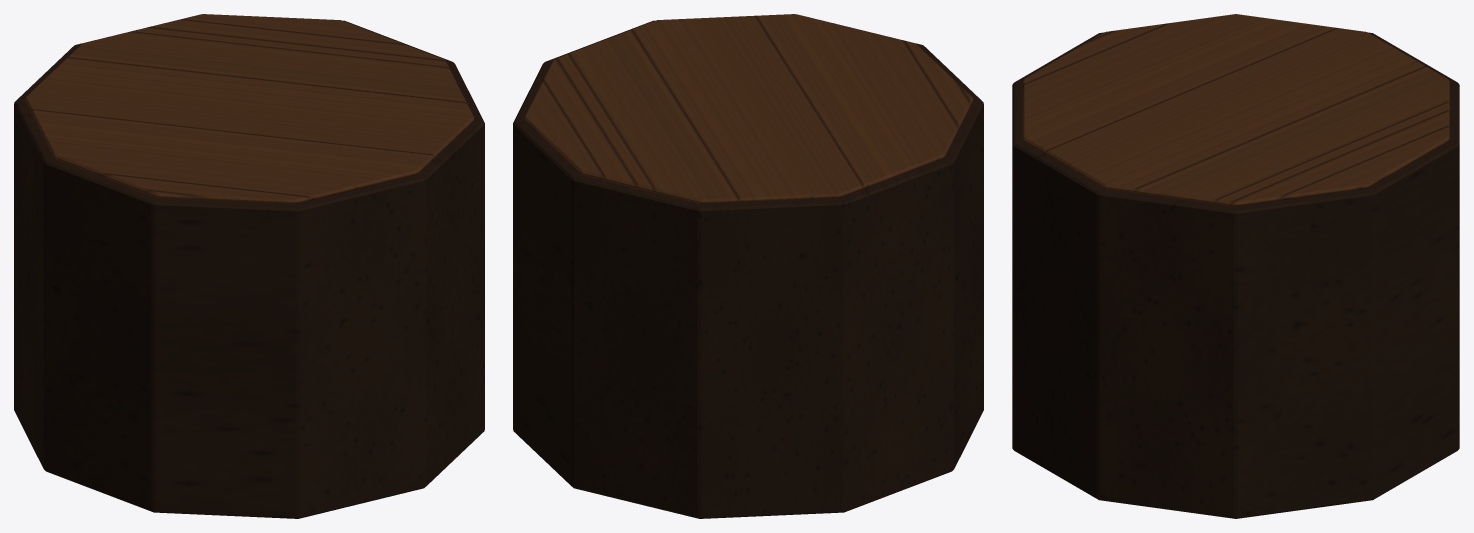
The model's file is PROP-C06900B3BF02_lod1.glb.
The picture shows the model from 3 angles, left to right: view 1: azimuth 30°, elevation 25°; view 2: azimuth 150°, elevation 25°; view 3: azimuth 270°, elevation 25°; orthographic projection.
Parts seen in each view (by area): view 1: stump.001, cut_growth_rings.001; view 2: stump.001, cut_growth_rings.001; view 3: stump.001, cut_growth_rings.001.
Part boxes in pixels (bbox=[...]): stump.001: bbox=[14, 16, 484, 518]; cut_growth_rings.001: bbox=[24, 14, 474, 204]; stump.001: bbox=[513, 16, 983, 518]; cut_growth_rings.001: bbox=[523, 14, 973, 204]; stump.001: bbox=[1012, 32, 1459, 518]; cut_growth_rings.001: bbox=[1022, 14, 1449, 206].
Bounding box in the file's own units: 0.8975 × 0.66 × 0.856.
2 materials, 2 textured.
